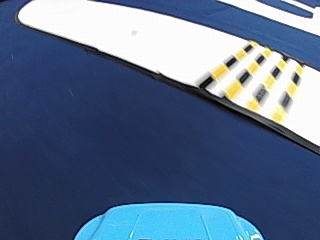bump: (197, 38, 303, 114)
